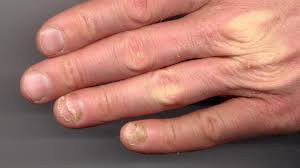nail: (22, 71, 50, 99), (38, 26, 64, 54), (55, 96, 81, 122), (122, 120, 148, 145)
